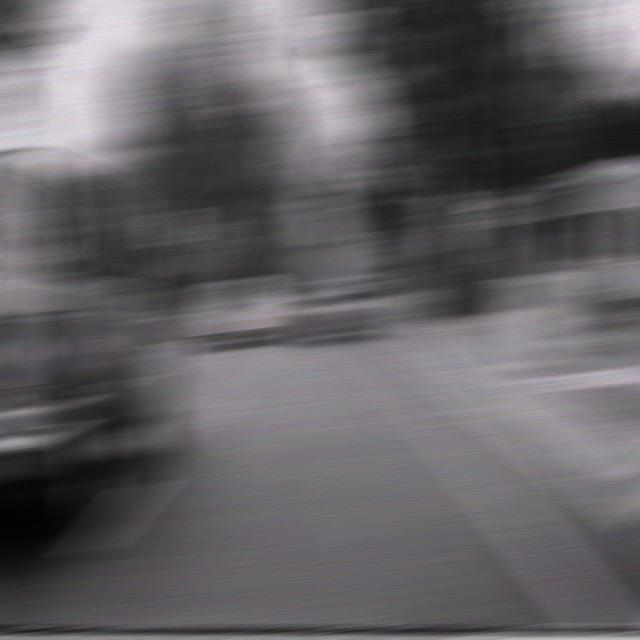speedLimit45: (430, 194, 467, 227), (155, 211, 192, 243)
